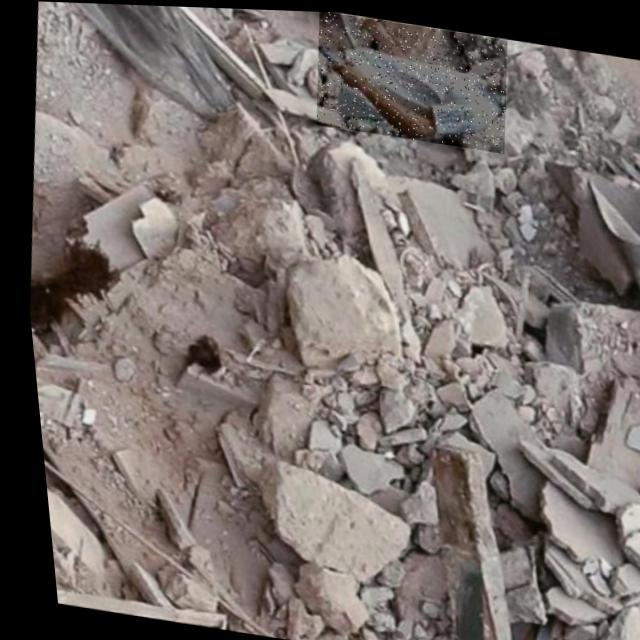Person in Rubble: (304, 9, 514, 150)
